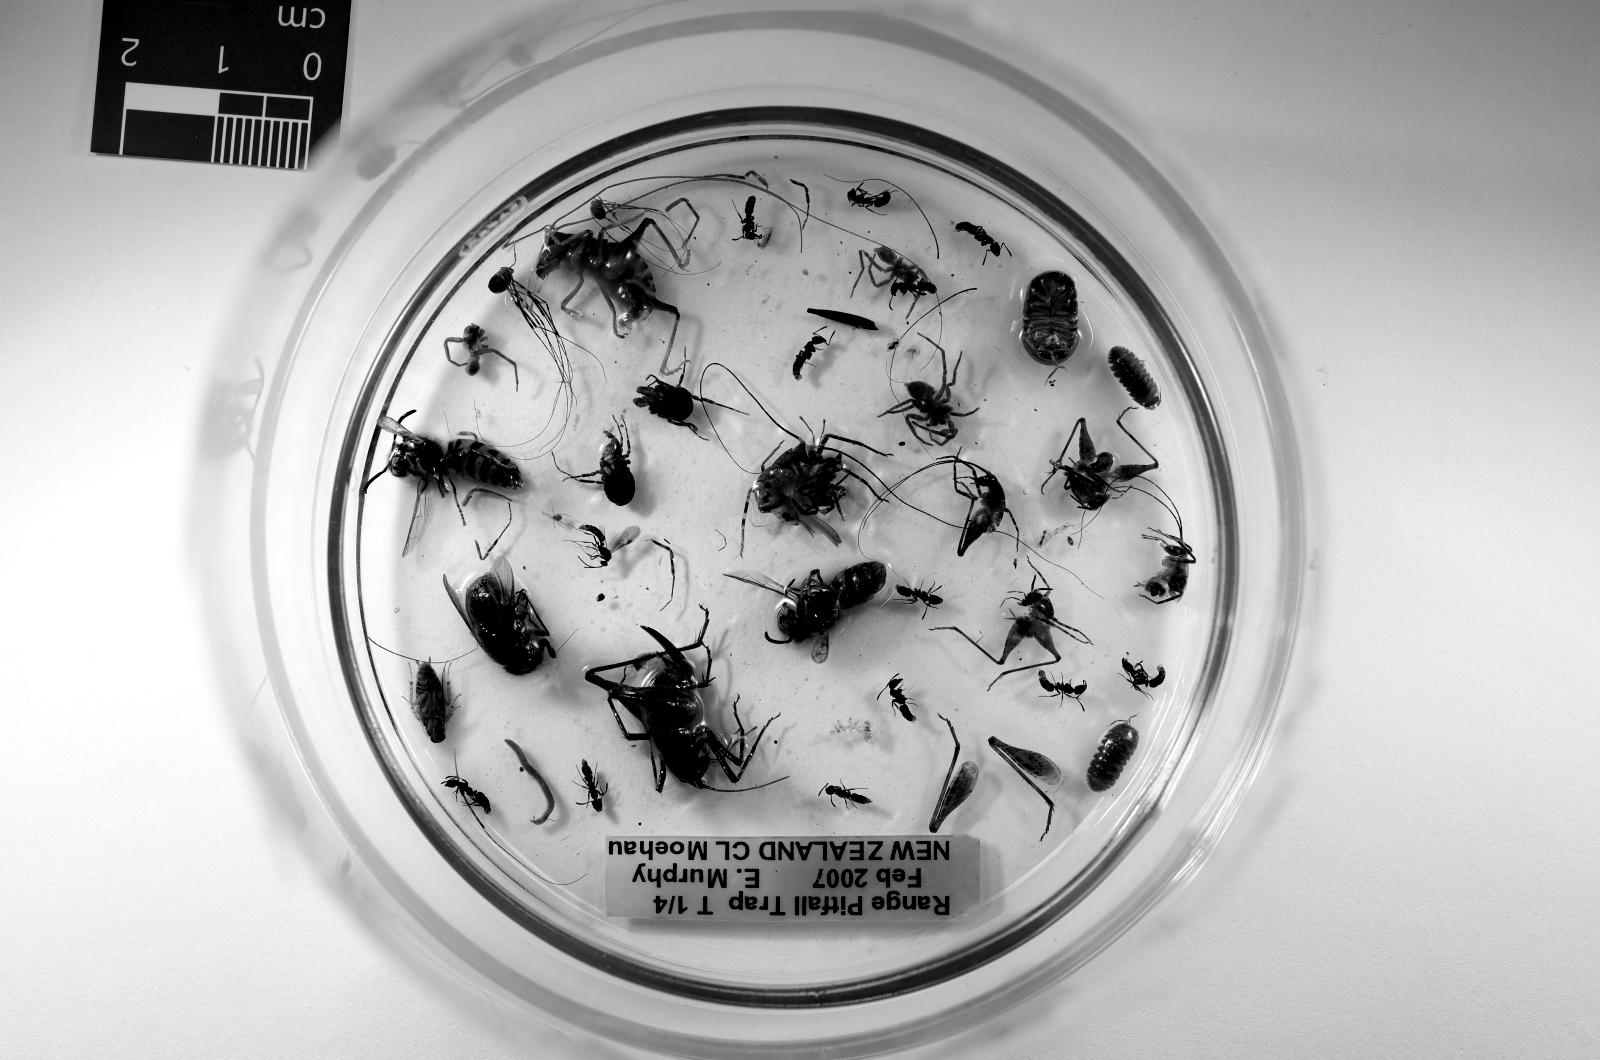acari: (544, 512, 572, 525)
araneae: (881, 342, 972, 444), (443, 327, 519, 392), (860, 245, 928, 286)
blattodea: (409, 661, 456, 742)
diplopoda: (506, 739, 556, 826)
diptera: (443, 556, 556, 674)
formicidae: (578, 525, 641, 568), (953, 220, 1010, 258), (443, 776, 491, 814), (1037, 671, 1088, 705), (793, 336, 828, 382), (1122, 658, 1166, 692), (578, 761, 607, 810), (818, 783, 872, 807), (887, 677, 915, 720), (896, 584, 944, 608), (847, 183, 890, 208), (890, 279, 938, 302), (740, 195, 759, 239)
isopoda: (1022, 270, 1078, 363), (1088, 724, 1138, 791), (1109, 348, 1162, 409)
opiliones: (487, 267, 572, 401), (569, 419, 634, 506), (634, 357, 704, 435), (590, 195, 631, 220)
orthoptera: (584, 612, 765, 791), (535, 218, 687, 376), (931, 568, 1090, 686), (1047, 407, 1159, 512), (938, 457, 1018, 556), (1138, 500, 1197, 606)
vespidae: (378, 416, 522, 556), (725, 562, 887, 661), (456, 500, 462, 516)
